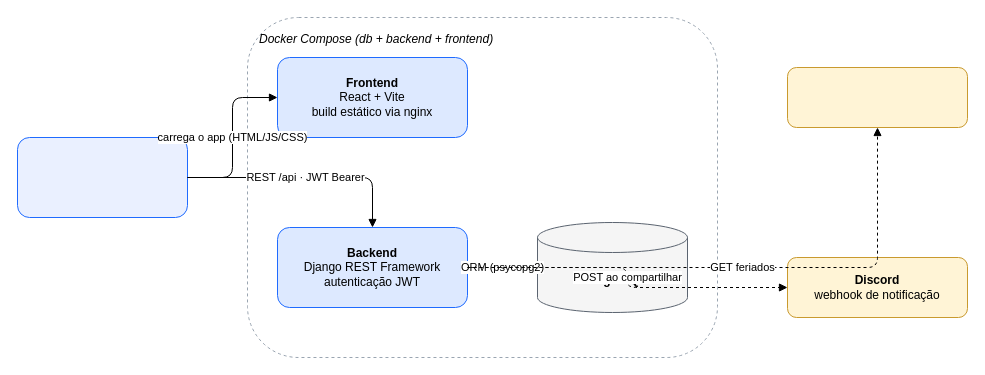
Some shapes in this 985 by 375 pixel diagram are drawn without their labels. Each missing label, with the centre of its shape:
"BrasilAPI feriados nacionais" belongs at point (877, 97).
"Navegador React SPA (cliente)" belongs at point (102, 177).
